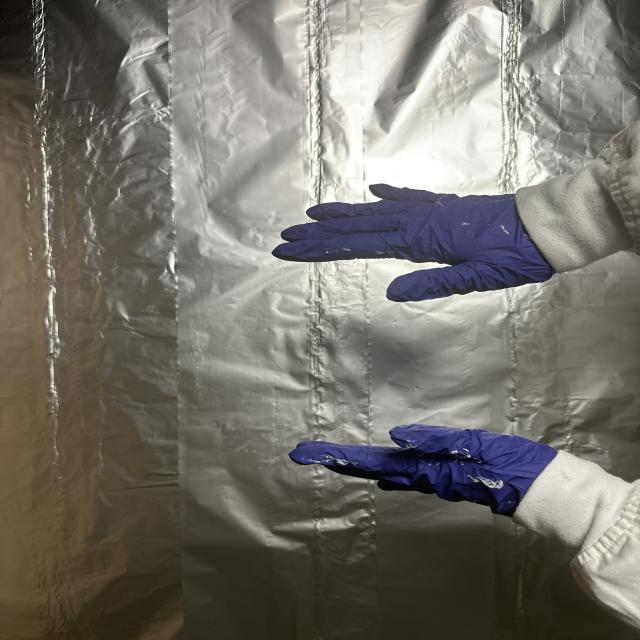gloves_contaminated: (273, 184, 555, 302), (292, 425, 556, 516)
